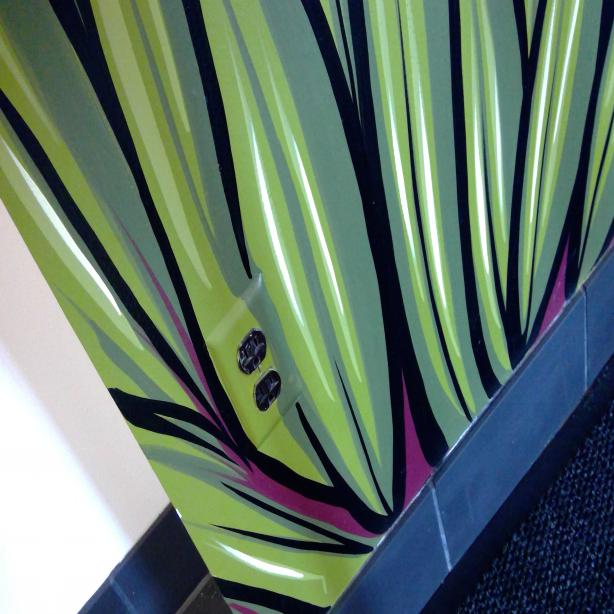typeb: (234, 330, 266, 370), (256, 368, 280, 414)
